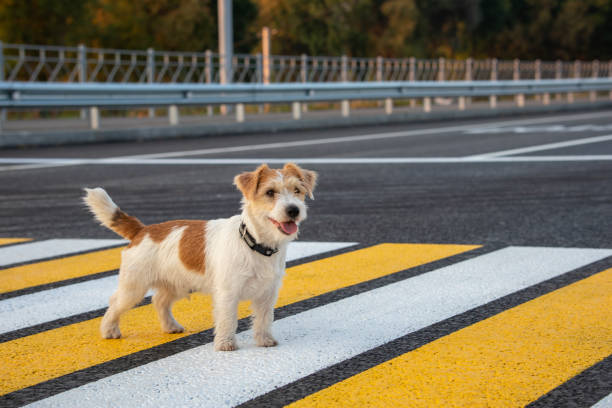kopek: (61, 156, 321, 362)
